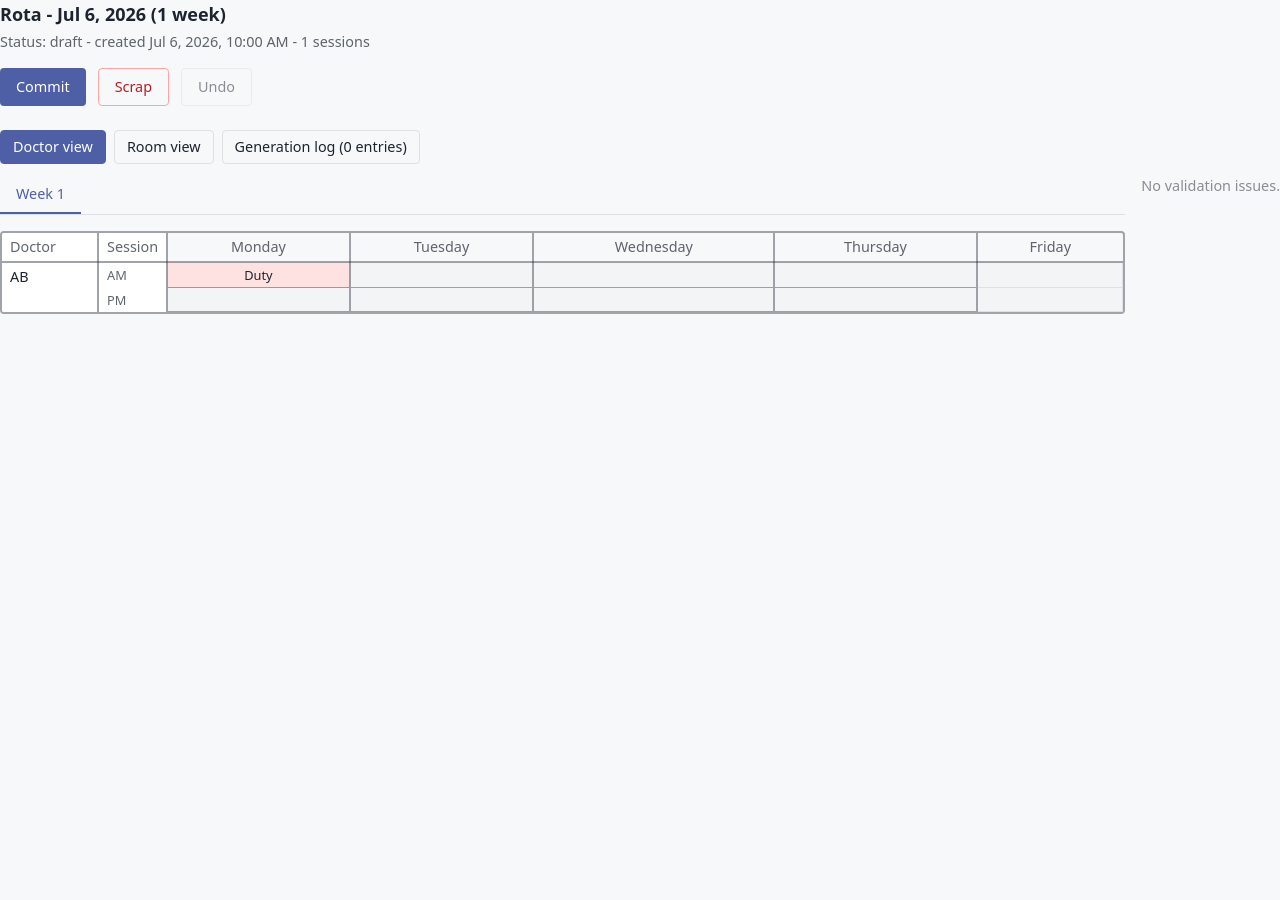
Test case: RotaDetailPage › clicking Undo issues a PATCH with the previous is_wfh/notes, shows Undone, and disables the button again
What coordinates should you click on to do the following:
click the button "Duty"
I would click on:
 (258, 275)
Its box is x1=244 y1=266 x2=273 y2=284.
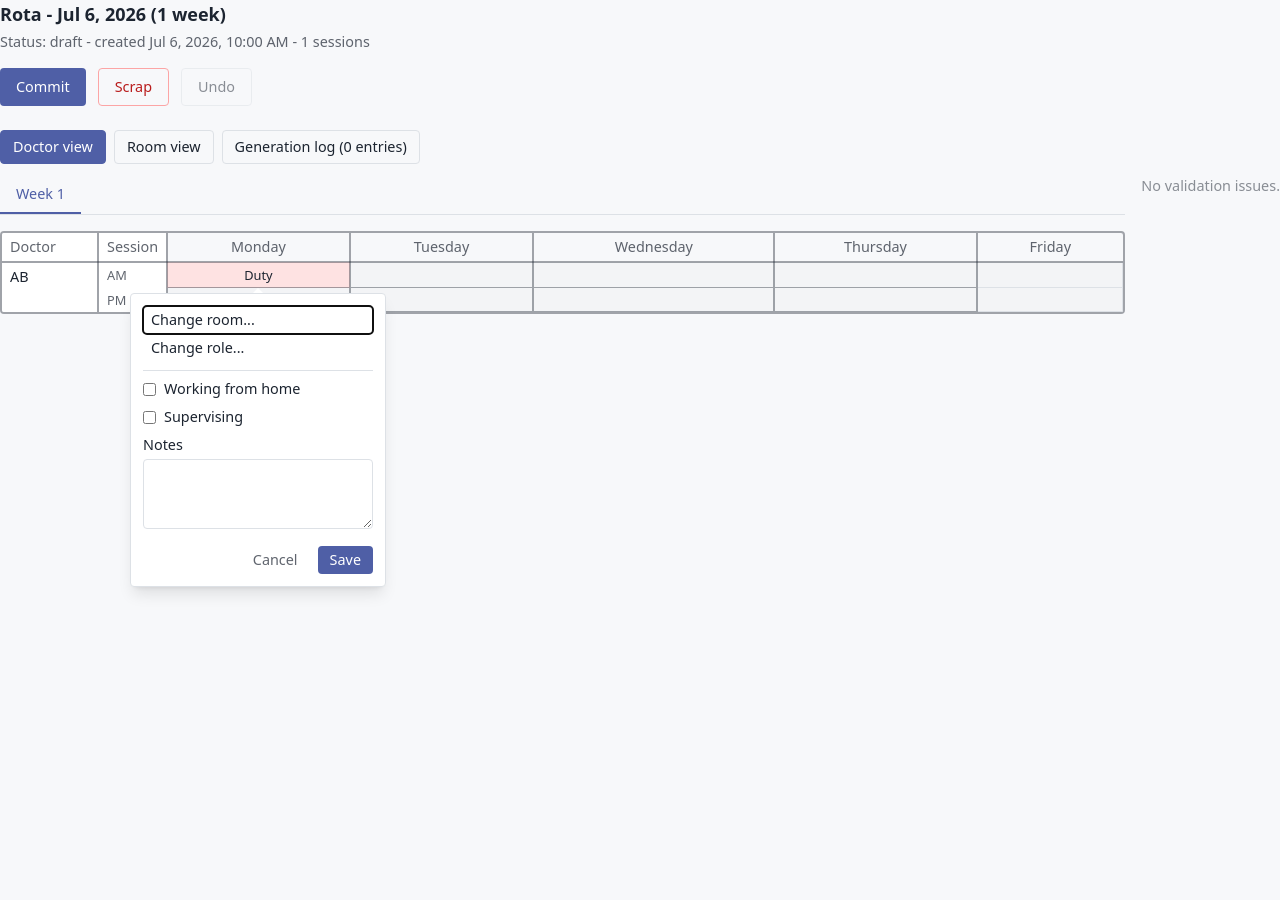
What coordinates should you click on to do the following:
click the checkbox labelled "Working from home"
I would click on:
 (150, 389)
Its box is x1=143 y1=382 x2=156 y2=396.
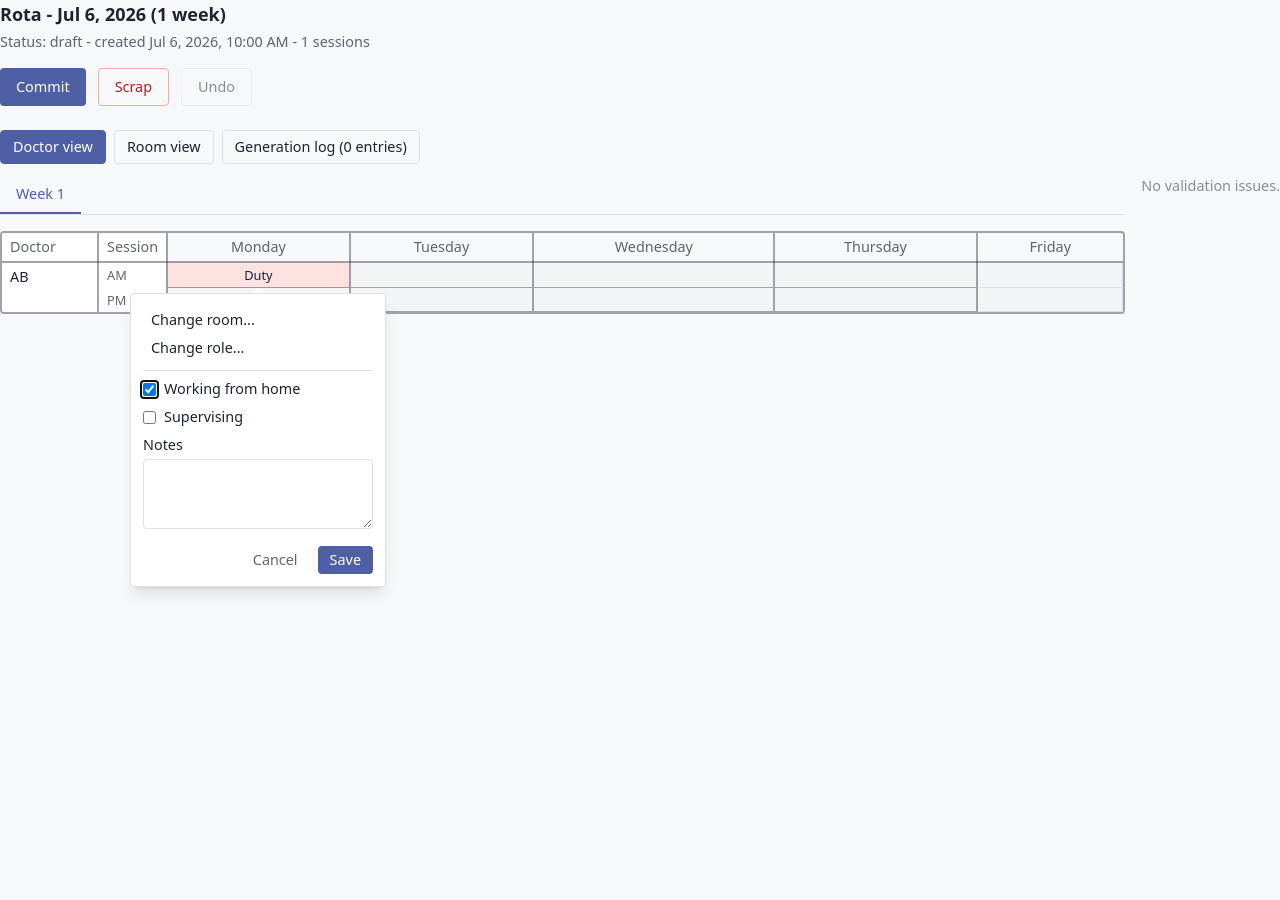
What coordinates should you click on to do the following:
click the button "Save"
I would click on:
 (345, 560)
Its box is x1=318 y1=546 x2=373 y2=574.
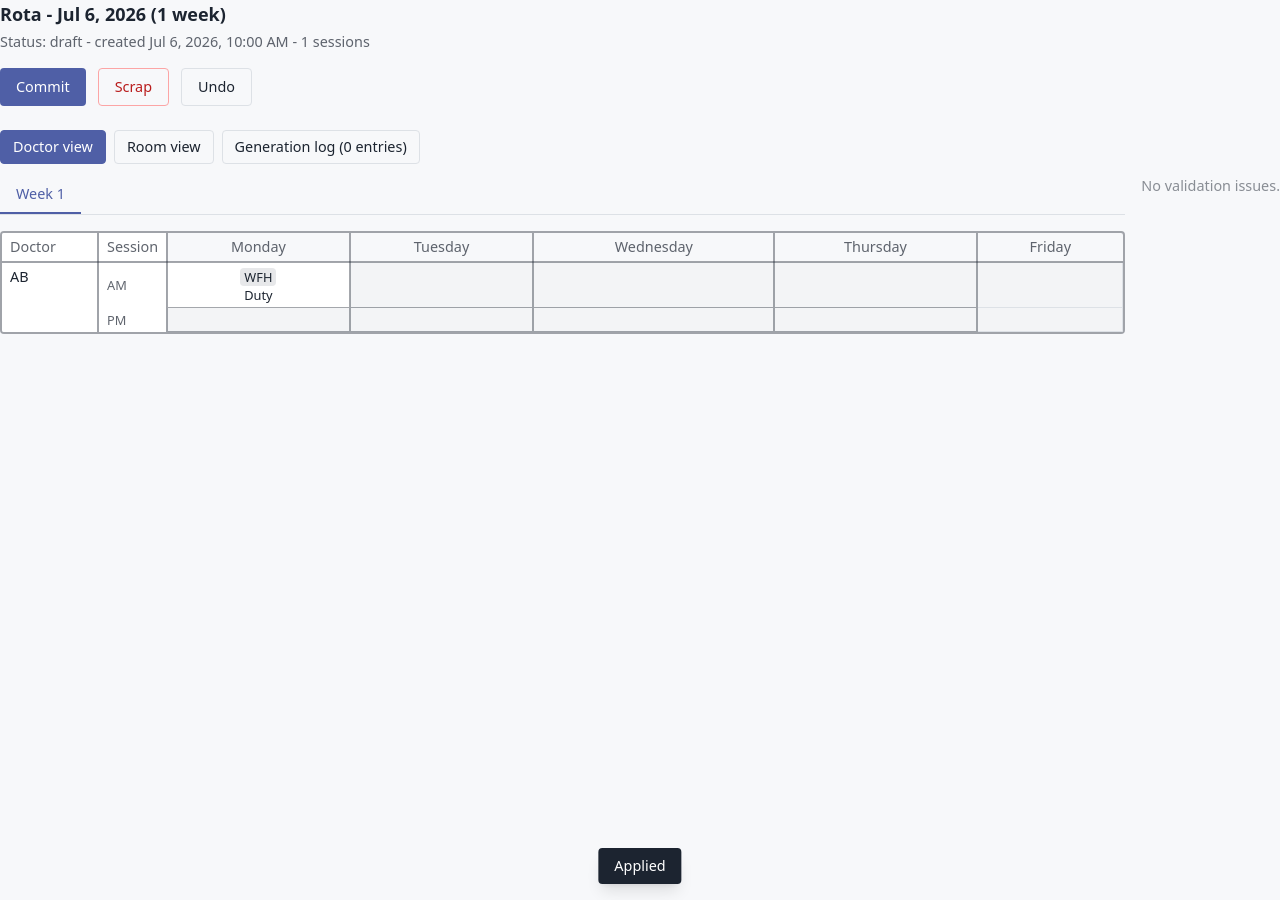
Now the text "Applied" is shown, box x1=598 y1=848 x2=682 y2=884
Now the button "Undo" is enabled
What coordinates should you click on to do the following:
click the button "Undo"
I would click on:
 (216, 87)
Its box is x1=181 y1=68 x2=252 y2=106.
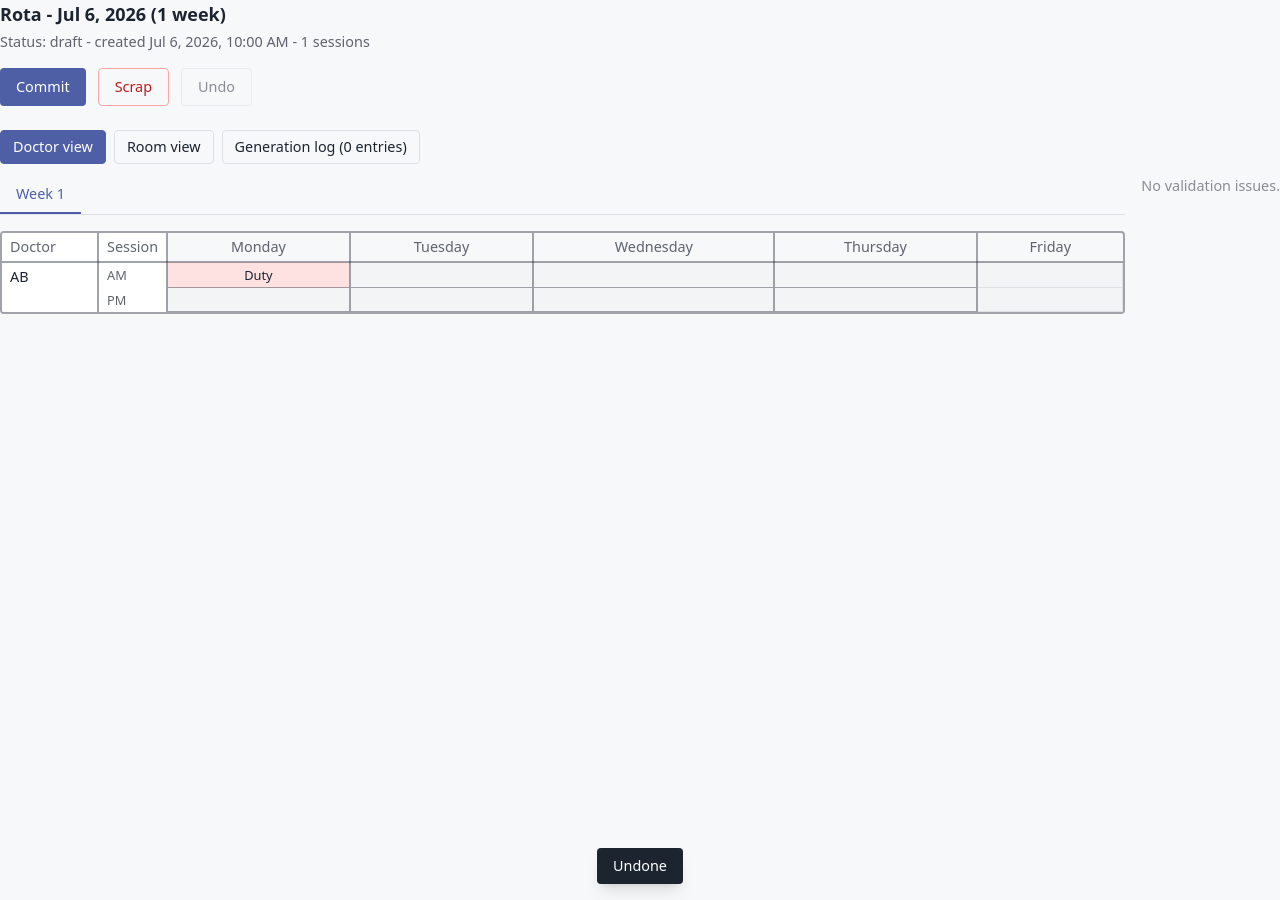
Now the text "Undone" is shown, box x1=597 y1=848 x2=683 y2=884
Now the button "Undo" is disabled, box x1=181 y1=68 x2=252 y2=106
